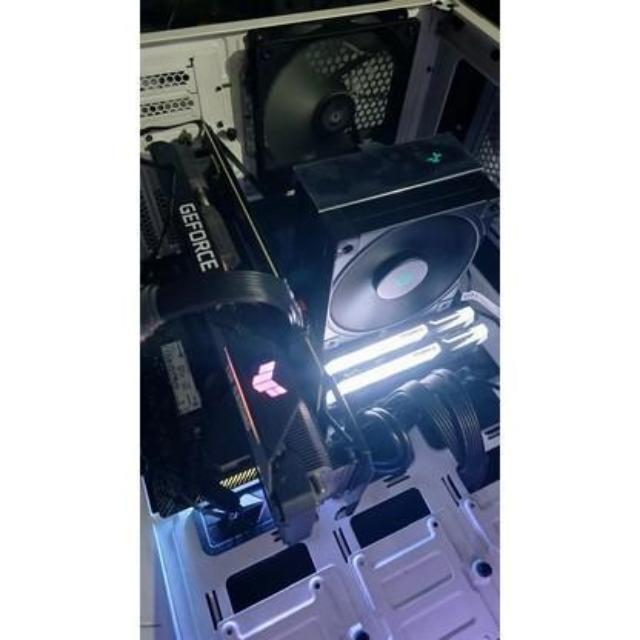CPU_Fan: (294, 153, 500, 339)
GPU: (126, 124, 331, 533)
